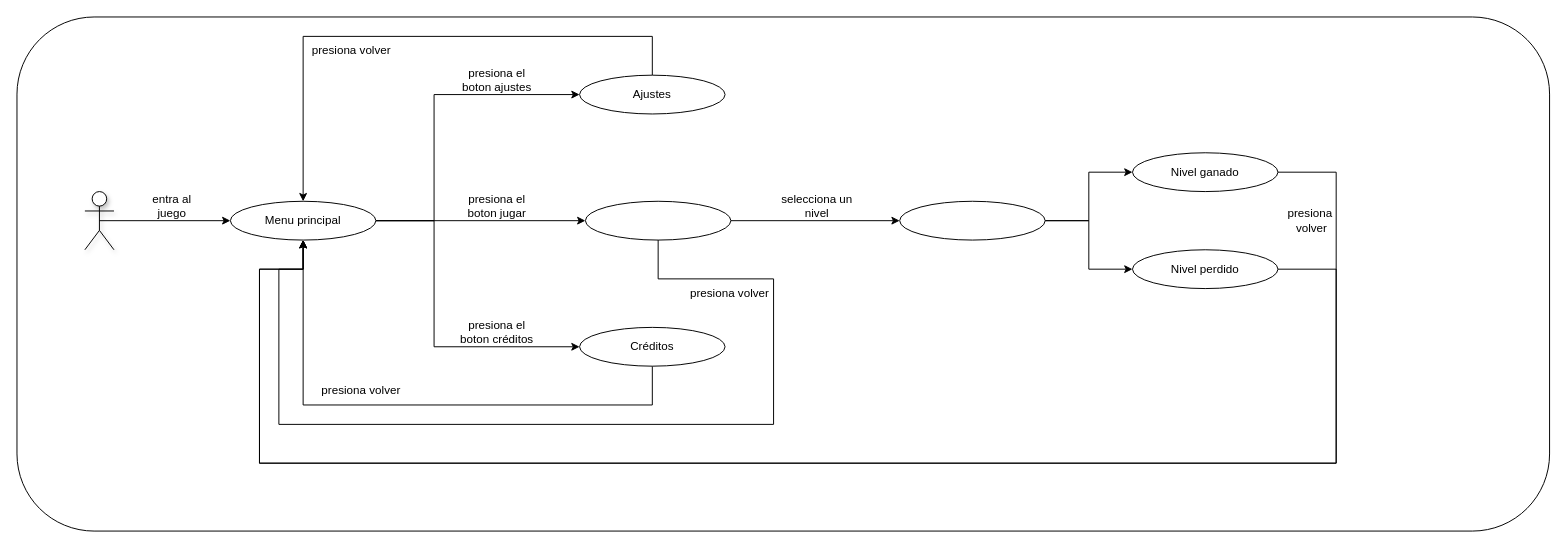
The diagram is 1567 pixels wide and 548 high, and some of its shapes have lost their labels. Each missing label, with the centre of its shape:
"Juega nivel" belongs at pixel 972 220.
"Jugador" belongs at pixel 100 222.
"Selección de nivel" belongs at pixel 657 220.
